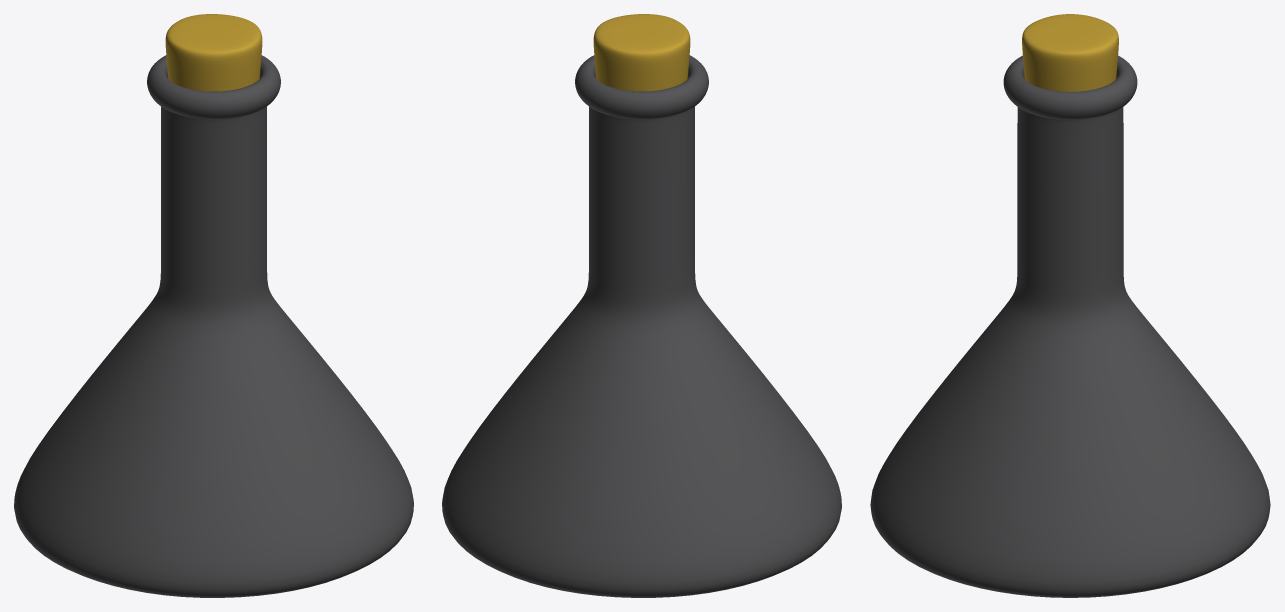
The model's file is lab.glb.
3 views of the same model, side by side, from view 1: azimuth 30°, elevation 25°; view 2: azimuth 150°, elevation 25°; view 3: azimuth 270°, elevation 25° (orthographic).
Parts seen in each view (by area): view 1: Chemestry-tube; view 2: Chemestry-tube; view 3: Chemestry-tube.
Part boxes in pixels (x1,y1,x2,y2): Chemestry-tube: [14, 14, 413, 597]; Chemestry-tube: [442, 14, 841, 597]; Chemestry-tube: [870, 14, 1270, 597].
Bounding box in the file's own units: 1.41 × 1.92 × 1.41.
